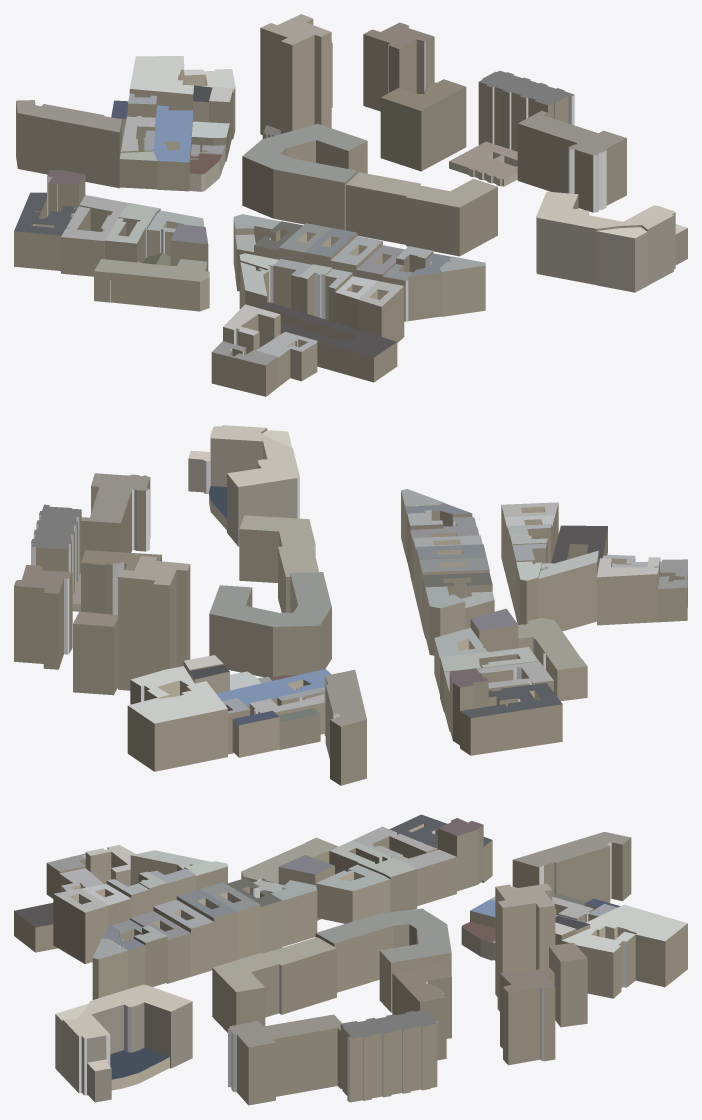
3 renders of one model, top to bottom at view 1: azimuth 30°, elevation 25°; view 2: azimuth 150°, elevation 25°; view 3: azimuth 270°, elevation 25°, orthographic. The views are drawn at different scales.
Visible parts, largest first — view 1: tuile; view 2: tuile; view 3: tuile.
Boxes of the visible parts, x1,y1,x2,y2 form: tuile: [14, 14, 687, 396]; tuile: [14, 425, 687, 785]; tuile: [14, 814, 687, 1105].
Size of the model in its own units: 275 by 64.23 by 301.
